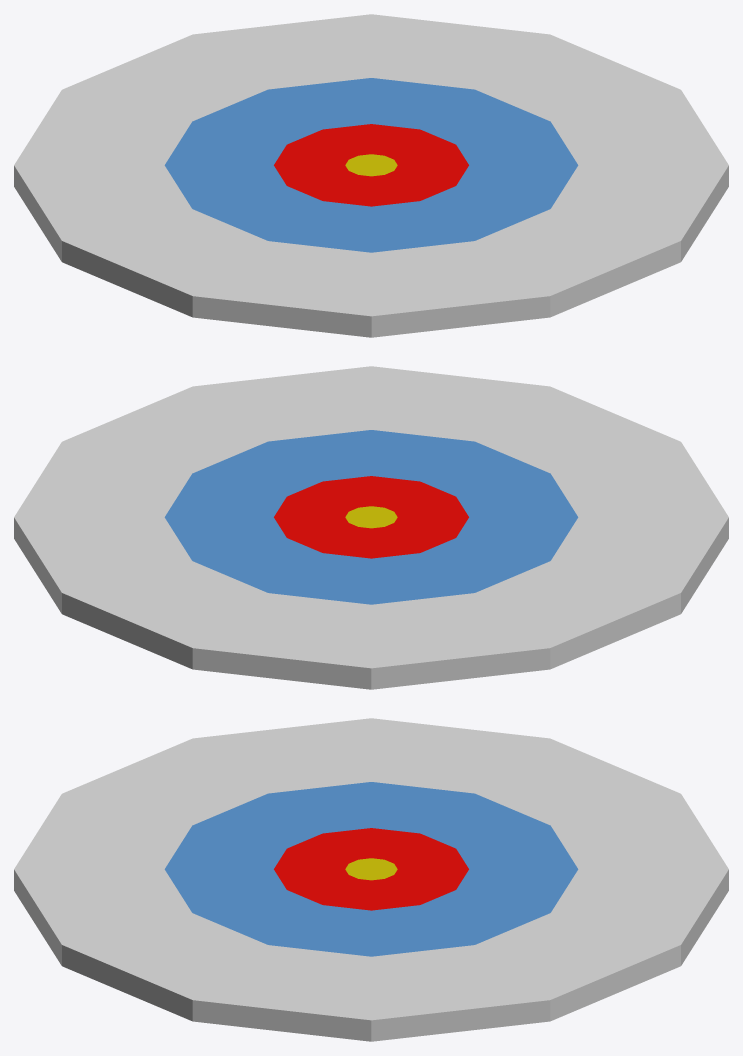
The model's file is Target Board.fbx.
The picture shows the model from 3 angles, top to bottom: view 1: azimuth 30°, elevation 25°; view 2: azimuth 150°, elevation 25°; view 3: azimuth 270°, elevation 25°; orthographic projection.
Parts seen in each view (by area): view 1: Circle; view 2: Circle; view 3: Circle.
Part boxes in pixels (x1=…): Circle: x1=14, y1=14, x2=728, y2=337; Circle: x1=14, y1=366, x2=728, y2=689; Circle: x1=14, y1=718, x2=728, y2=1041.
Bounding box in the file's own units: 200 × 6.6 × 200.
